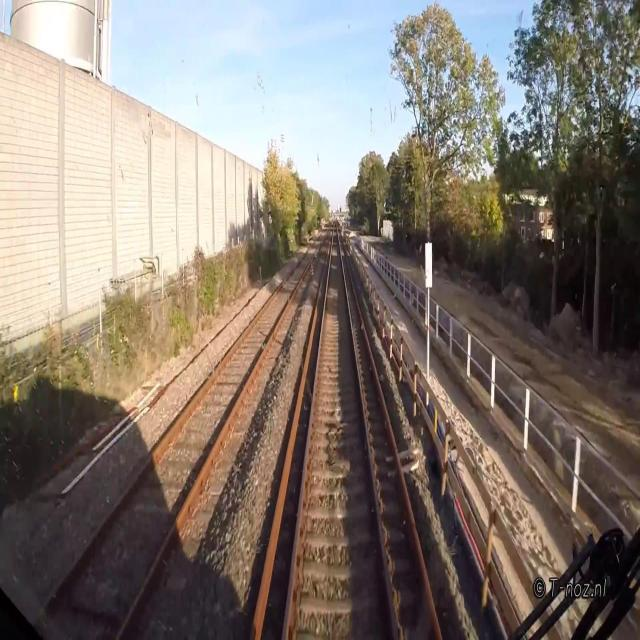rail-track: (23, 225, 328, 639), (284, 221, 392, 639)
